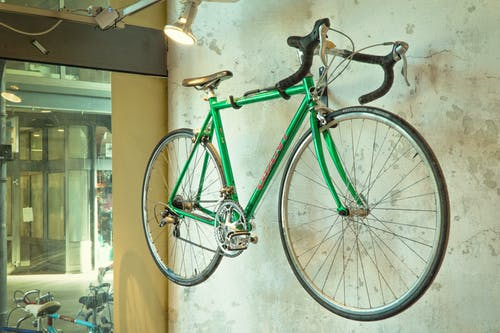bicycle: (138, 14, 454, 325)
